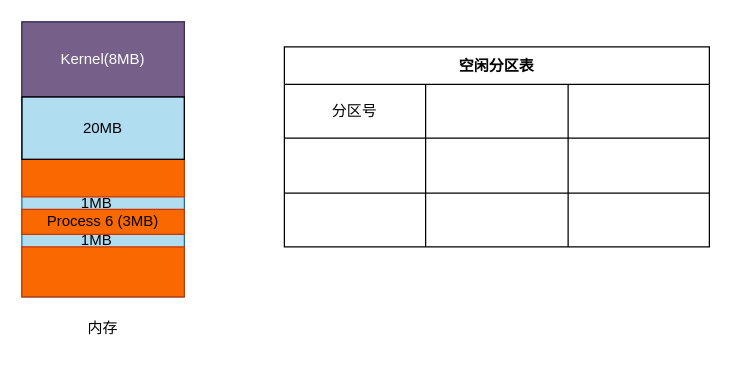
The diagram is 731 pixels wide and 369 high, and some of its shapes have lost their labels. Each missing label, with the centre of its shape:
"Process 2 (12MB)" goes at [102,271].
"Process 4 (4MB)" goes at [102,177].
